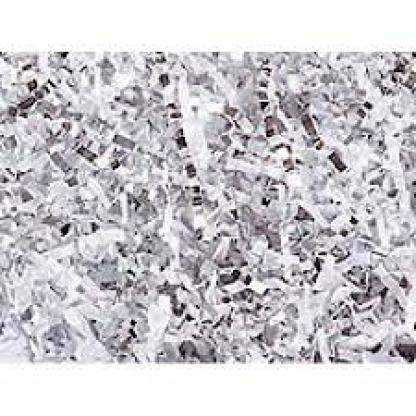paper: (0, 50, 414, 362)
